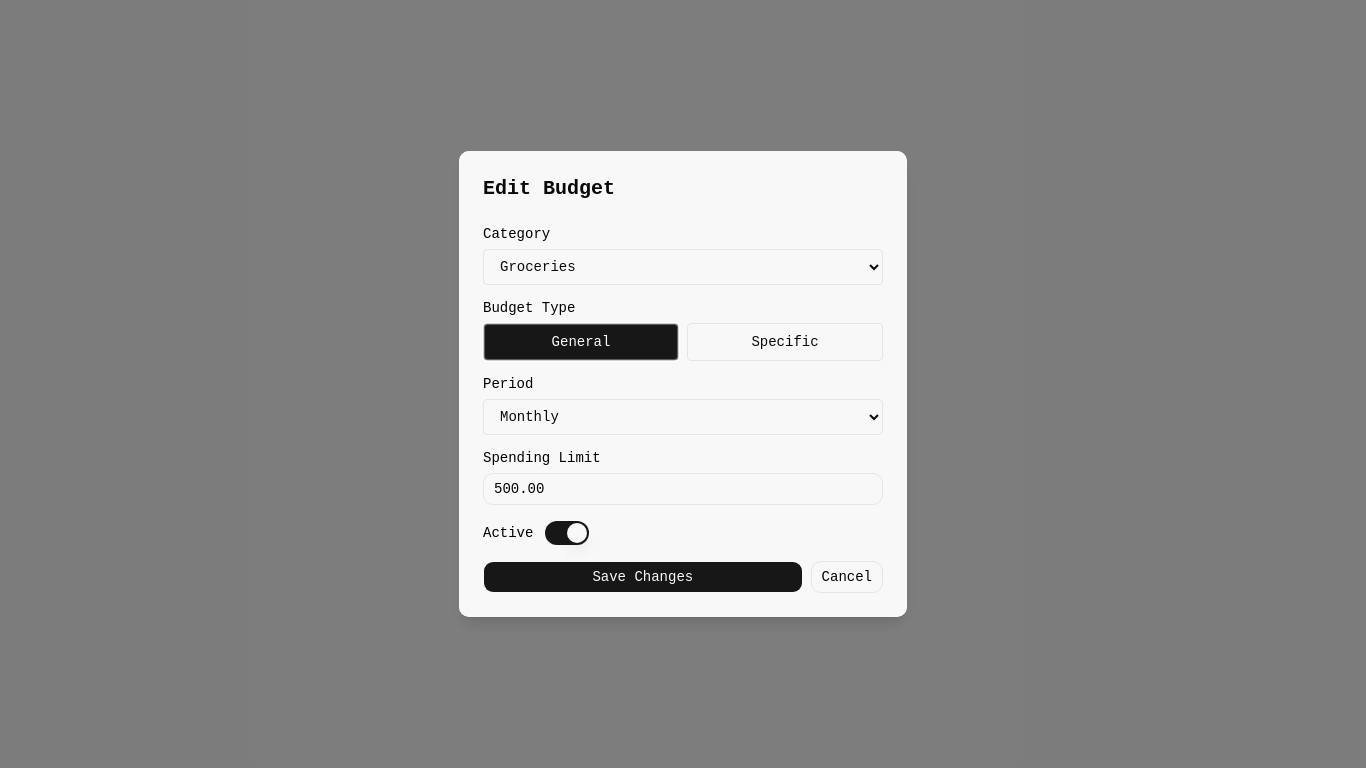
Test case: CreateEditBudgetDialog › submission › displays ApiError message on failed update
This screenshot has width=1366, height=768.
Replace the text in the number field labelled "Spending Limit" with "750" at [683, 489], box [483,473,883,505]
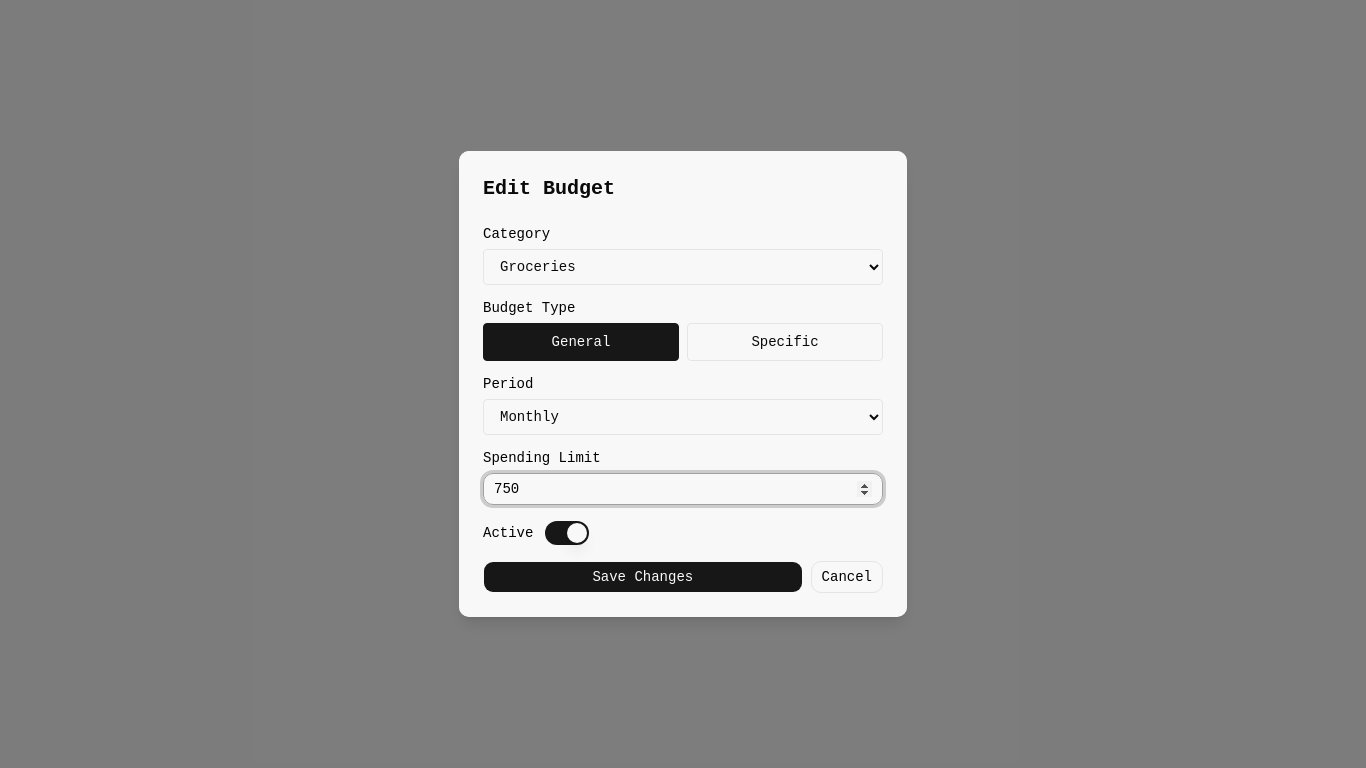
Click the button "Save Changes" at [643, 577], box [483,561,803,593]
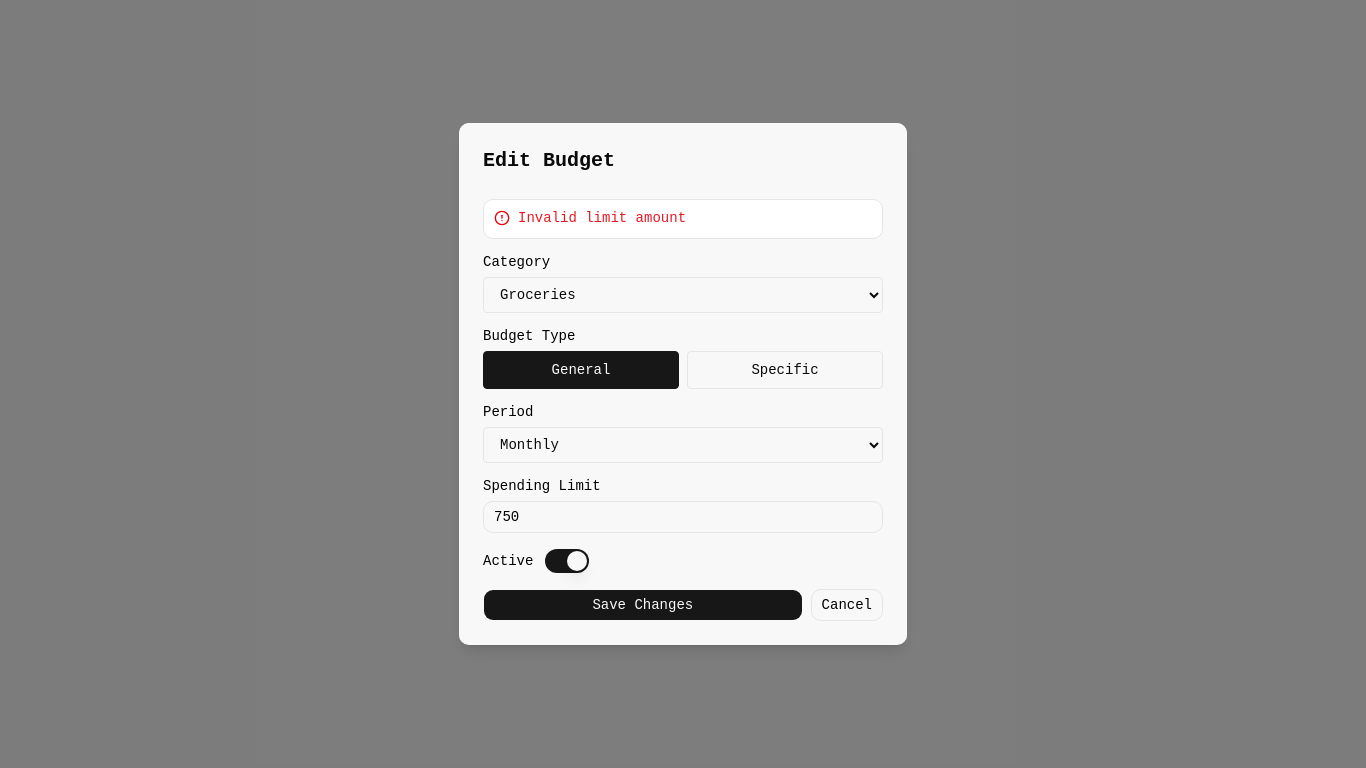
Now the text "Invalid limit amount" is shown, box [518,210,686,226]
